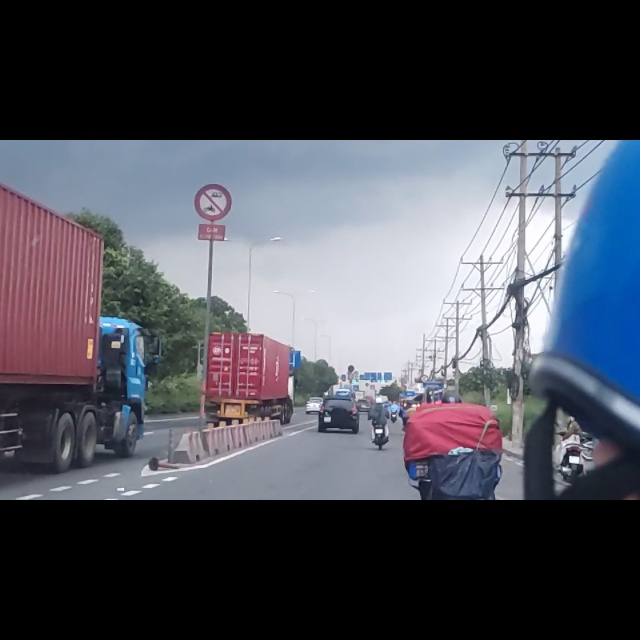bien_chi_dan: (195, 78, 233, 142)
